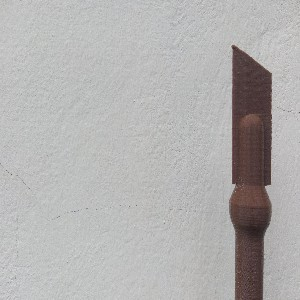cutter: (228, 42, 273, 299)
